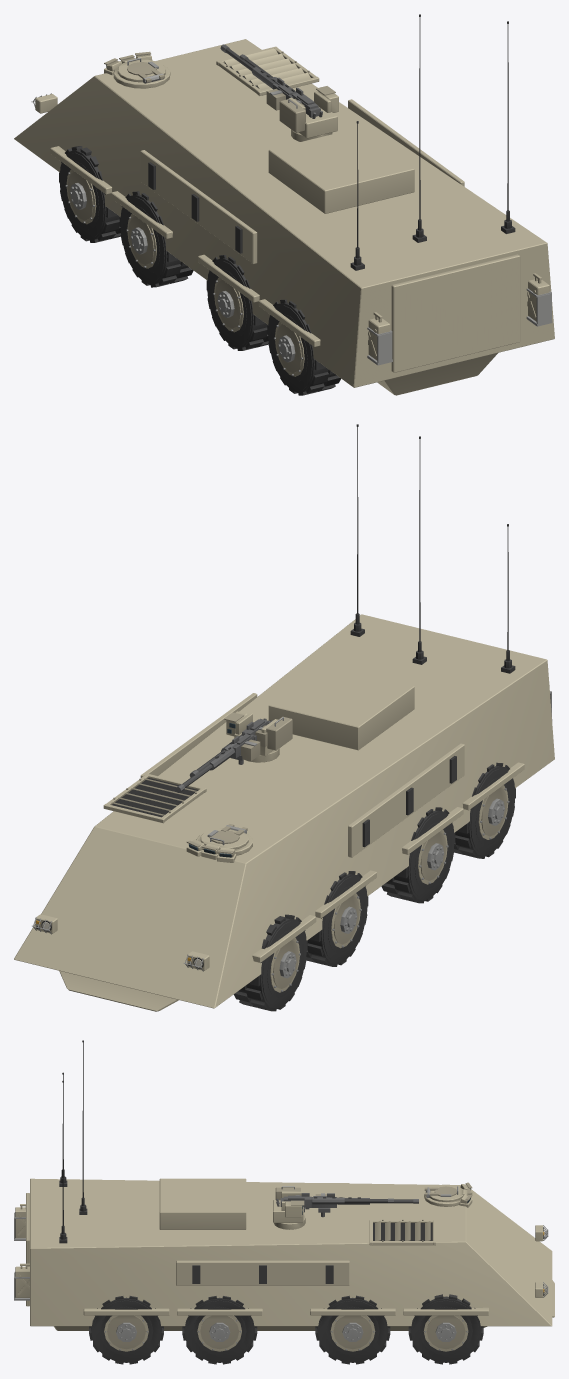
Rendered from usa_cst_acvc.glb.
3 renders of one model, top to bottom at view 1: azimuth 30°, elevation 25°; view 2: azimuth 150°, elevation 25°; view 3: azimuth 270°, elevation 25°, orthographic. The views are drawn at different scales.
Visible parts, largest first — view 1: body, wheel_2, wheel_6, wheel_0, wheel_4, turret, barrel; view 2: body, wheel_0, wheel_4, wheel_2, wheel_6, turret, barrel; view 3: body, wheel_1, wheel_3, wheel_5, wheel_7, turret, barrel.
Part boxes in pixels (x1=…): body: x1=14, y1=14, x2=554, y2=395; wheel_2: x1=119, y1=191, x2=193, y2=287; wheel_6: x1=267, y1=299, x2=340, y2=395; wheel_0: x1=59, y1=146, x2=120, y2=242; wheel_4: x1=206, y1=255, x2=268, y2=350; turret: x1=239, y1=54, x2=338, y2=141; barrel: x1=220, y1=44, x2=293, y2=110; body: x1=14, y1=424, x2=554, y2=1011; wheel_0: x1=234, y1=914, x2=307, y2=1011; wheel_4: x1=381, y1=807, x2=455, y2=903; wheel_2: x1=306, y1=871, x2=368, y2=966; wheel_6: x1=453, y1=762, x2=515, y2=858; turret: x1=189, y1=711, x2=292, y2=777; barrel: x1=175, y1=734, x2=260, y2=792; body: x1=14, y1=1040, x2=554, y2=1330; wheel_1: x1=408, y1=1294, x2=483, y2=1364; wheel_3: x1=315, y1=1295, x2=390, y2=1364; wheel_5: x1=182, y1=1296, x2=257, y2=1364; wheel_7: x1=89, y1=1296, x2=163, y2=1364; turret: x1=273, y1=1186, x2=393, y2=1229; barrel: x1=305, y1=1193, x2=418, y2=1217.
Bounding box in the file's own units: 2.88 × 4.75 × 8.13.
